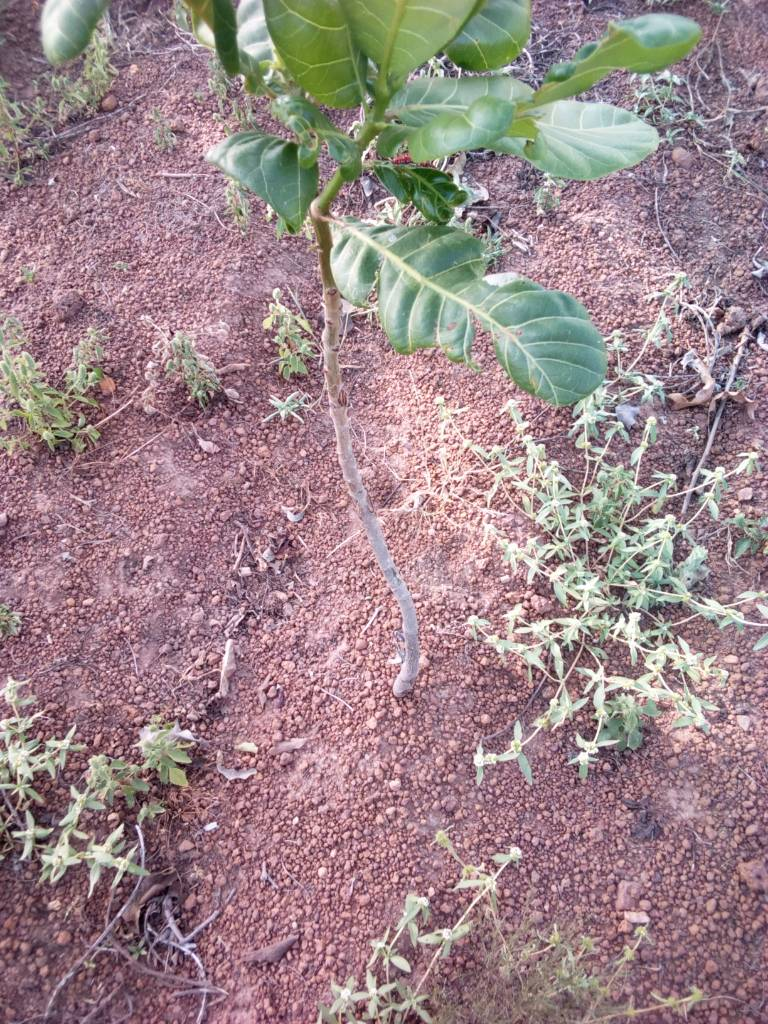Helopeltis anacardii: (330, 213, 607, 407), (213, 100, 366, 228), (544, 8, 710, 103), (390, 166, 457, 203)
